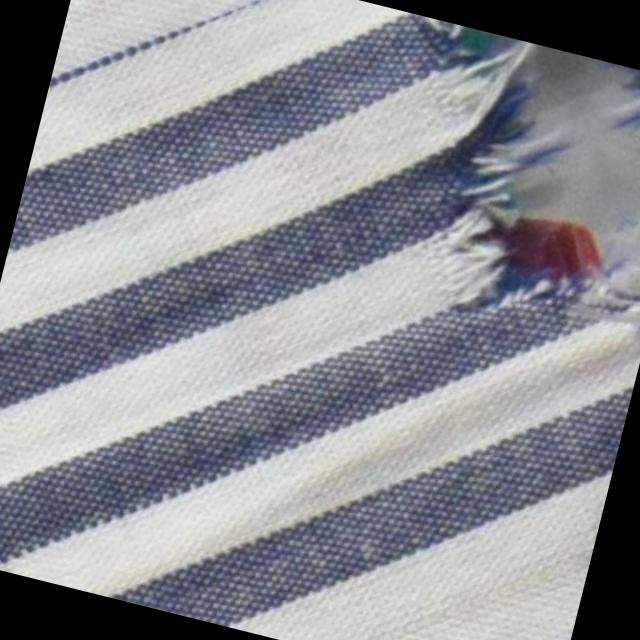cut: (417, 30, 640, 343)
